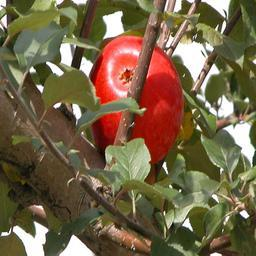apple: (92, 35, 184, 162)
